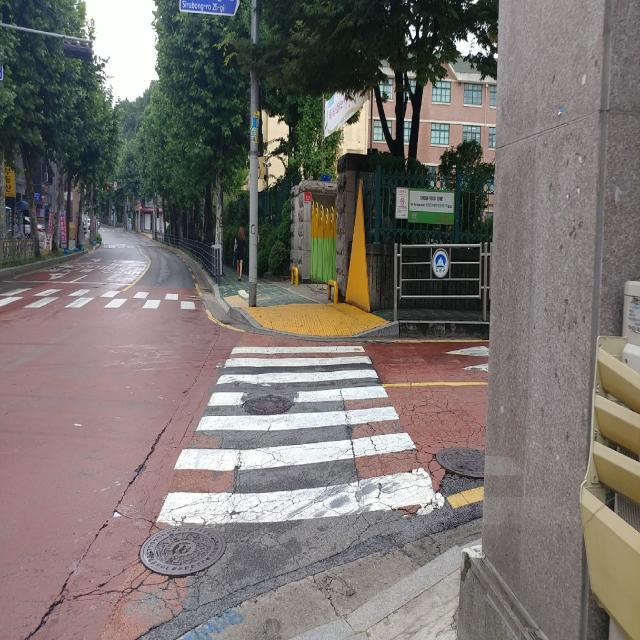횡단보도: (152, 341, 446, 529), (0, 277, 210, 314)
